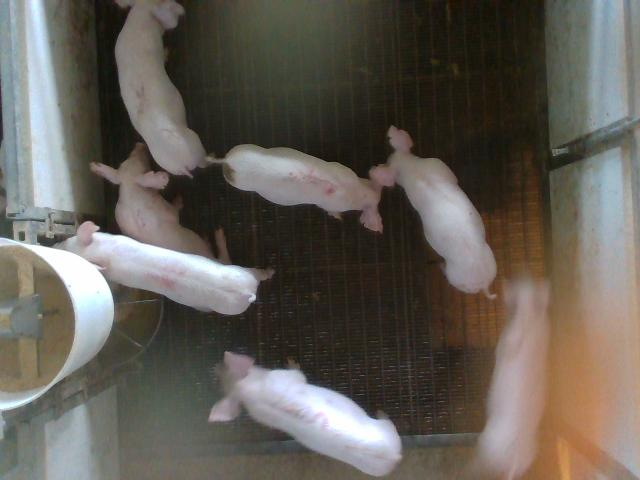pig-3: (209, 351, 401, 476)
pig-4: (58, 221, 272, 314)
pig-5: (208, 144, 382, 231)
